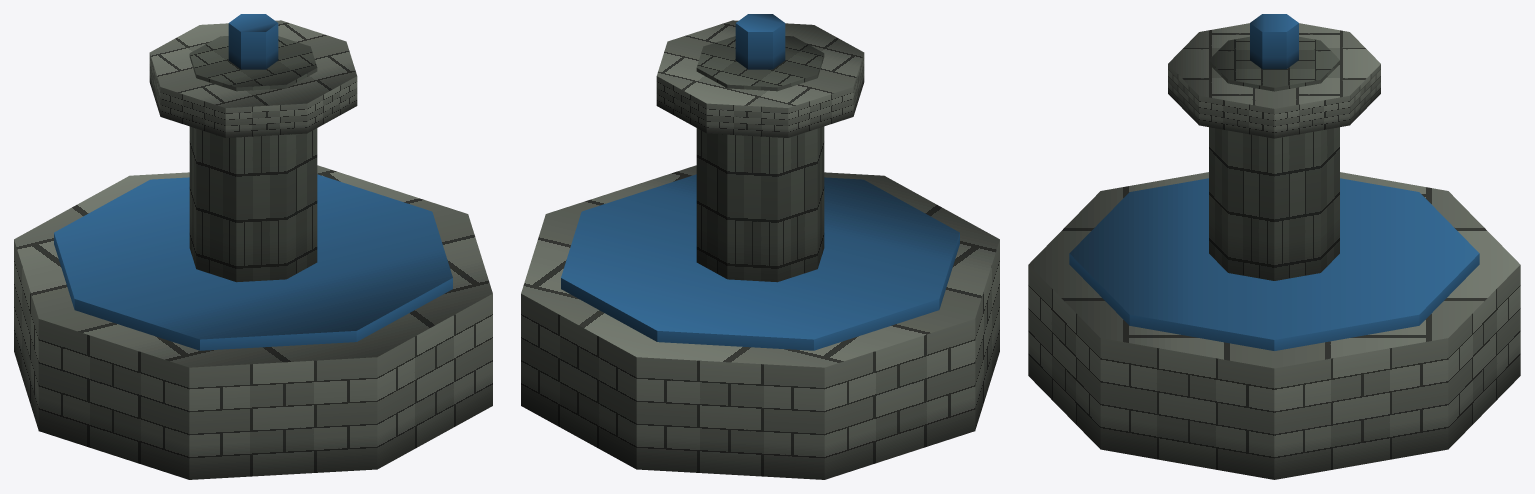
The model's file is fountain.glb.
3 renders of one model, left to right at view 1: azimuth 30°, elevation 25°; view 2: azimuth 150°, elevation 25°; view 3: azimuth 270°, elevation 25°, orthographic.
Visible parts, largest first — view 1: fountain; view 2: fountain; view 3: fountain.
Part boxes in pixels (<box>): fountain: <box>14,14,492,479</box>; fountain: <box>521,14,999,479</box>; fountain: <box>1028,14,1520,479</box>.
Size of the model in its own units: 1.2 by 0.95 by 1.2.
1 material, 1 textured.
